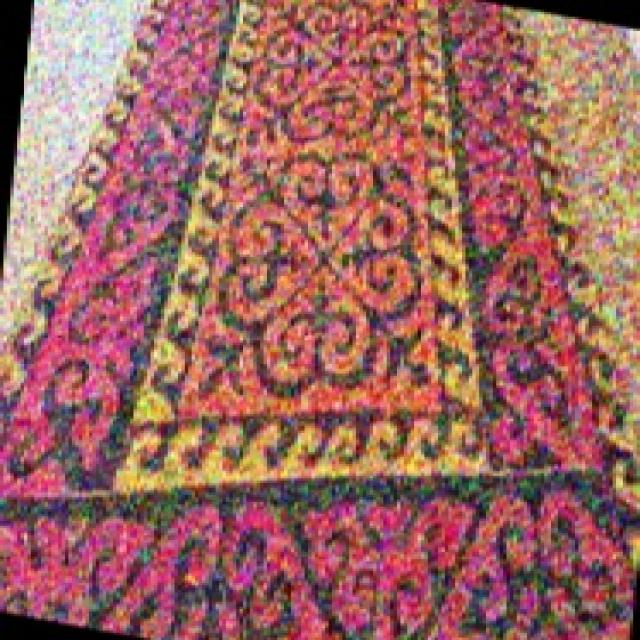Unity: (186, 162, 470, 390), (241, 4, 423, 147)
